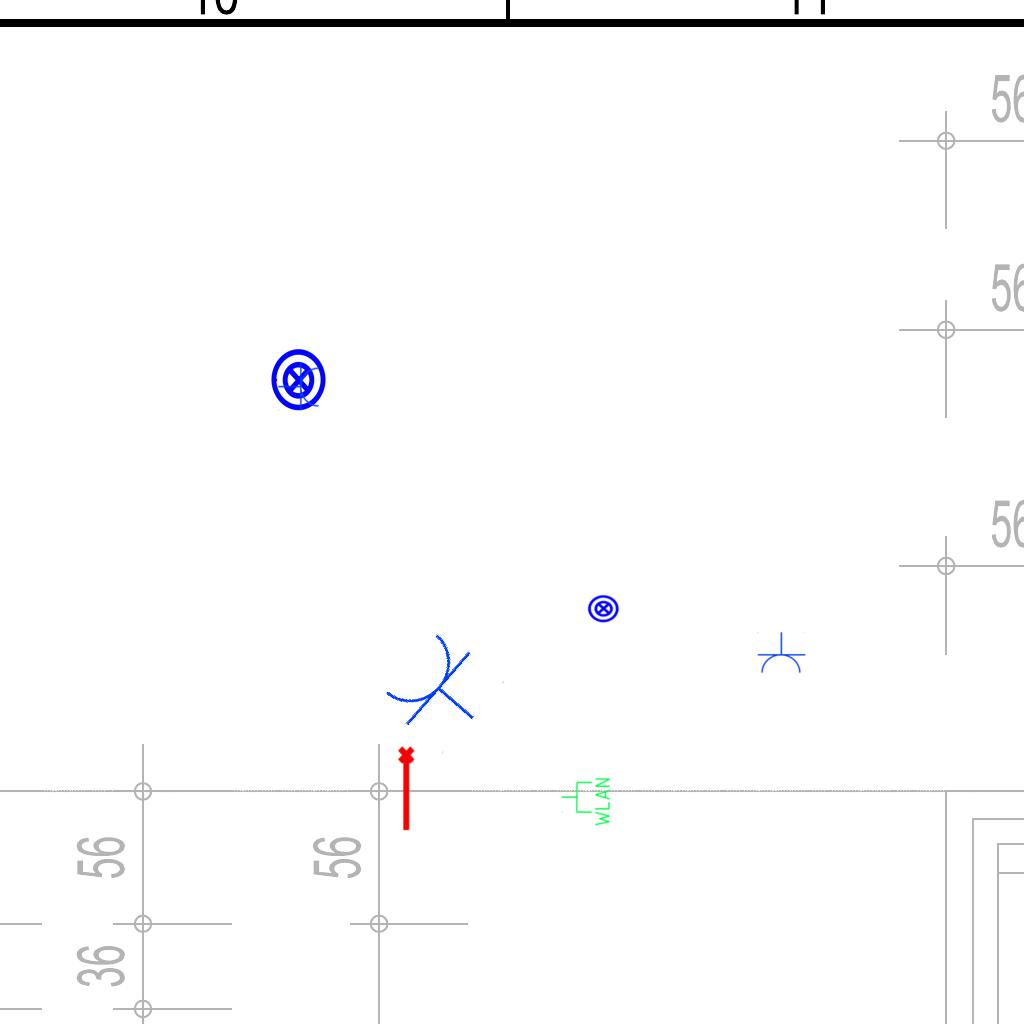ASR_Ansaugoeffnung: (396, 745, 419, 833)
Schukosteckdose_einfach: (375, 623, 507, 756), (756, 632, 806, 675), (278, 362, 321, 412)
Taster_beleuchtet: (266, 347, 332, 413), (587, 592, 620, 625)
WLAN: (560, 776, 612, 828)
